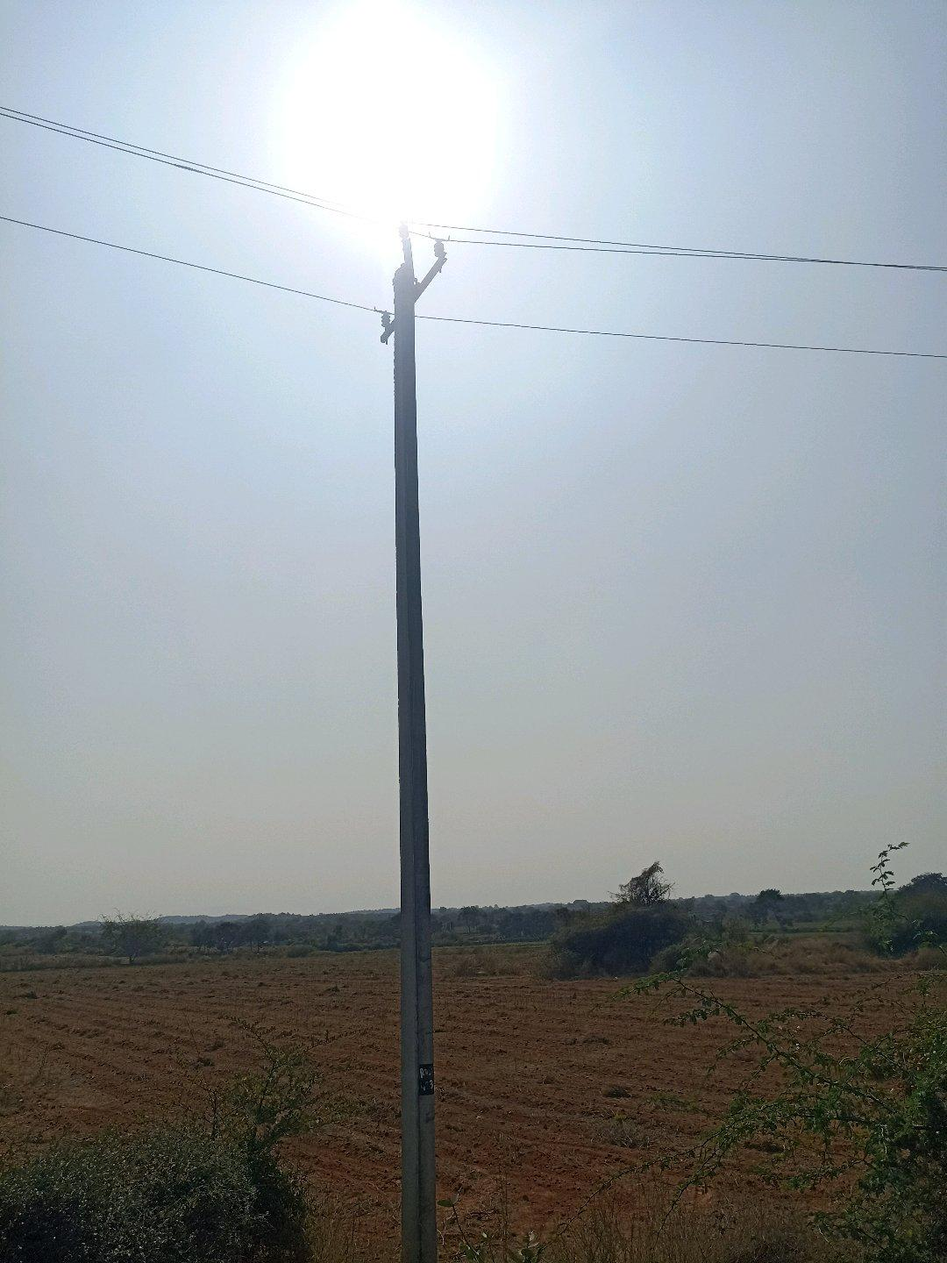{"0" "insulator", "1" "pole", "2" "crossarm", "3" "conductor", "4" "street_: (359, 218, 474, 1262), (303, 194, 400, 231), (292, 190, 295, 202)
